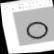no answer: (23, 18, 51, 41)
